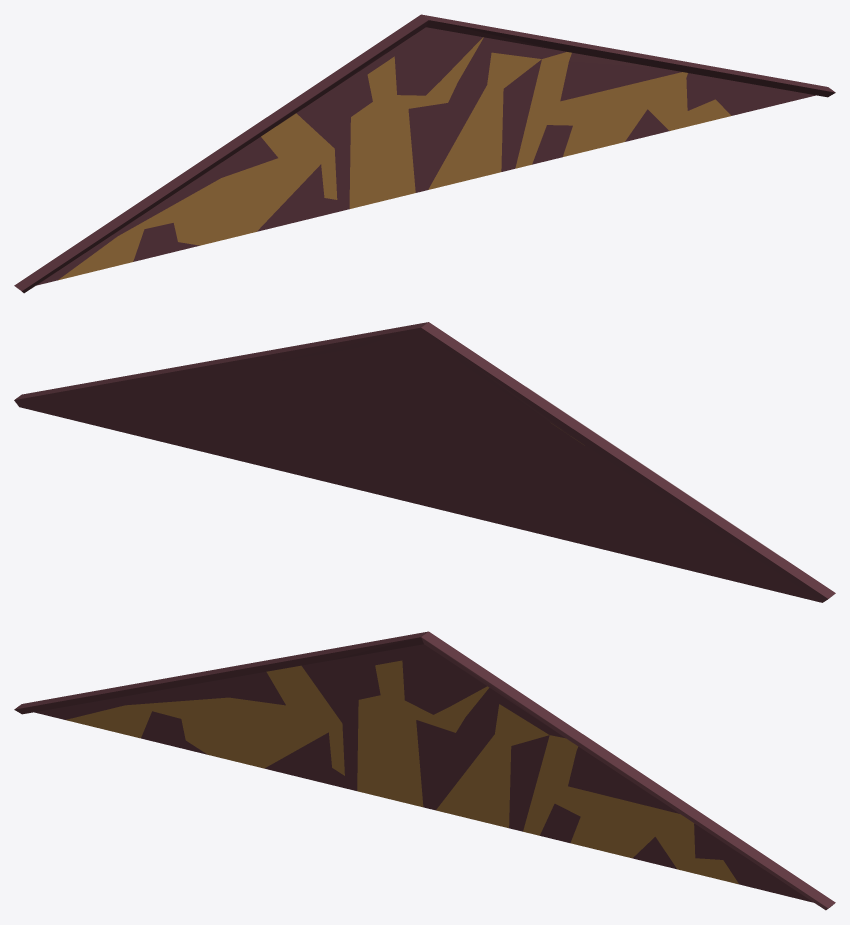
The model's file is SM_Wall_Vertical_Symbol_9m_Empire.fbx.
The picture shows the model from 3 angles, top to bottom: view 1: azimuth 30°, elevation 25°; view 2: azimuth 150°, elevation 25°; view 3: azimuth 330°, elevation 25°; orthographic projection.
Parts seen in each view (by area): view 1: SM_Wall_Vertical_Symbol_9m_Empire; view 2: SM_Wall_Vertical_Symbol_9m_Empire; view 3: SM_Wall_Vertical_Symbol_9m_Empire.
Part boxes in pixels (bbox=[...]): SM_Wall_Vertical_Symbol_9m_Empire: bbox=[14, 14, 835, 293]; SM_Wall_Vertical_Symbol_9m_Empire: bbox=[14, 322, 835, 602]; SM_Wall_Vertical_Symbol_9m_Empire: bbox=[14, 631, 835, 910].
Bounding box in the file's own units: 9.13 × 1.9 × 0.1522.
